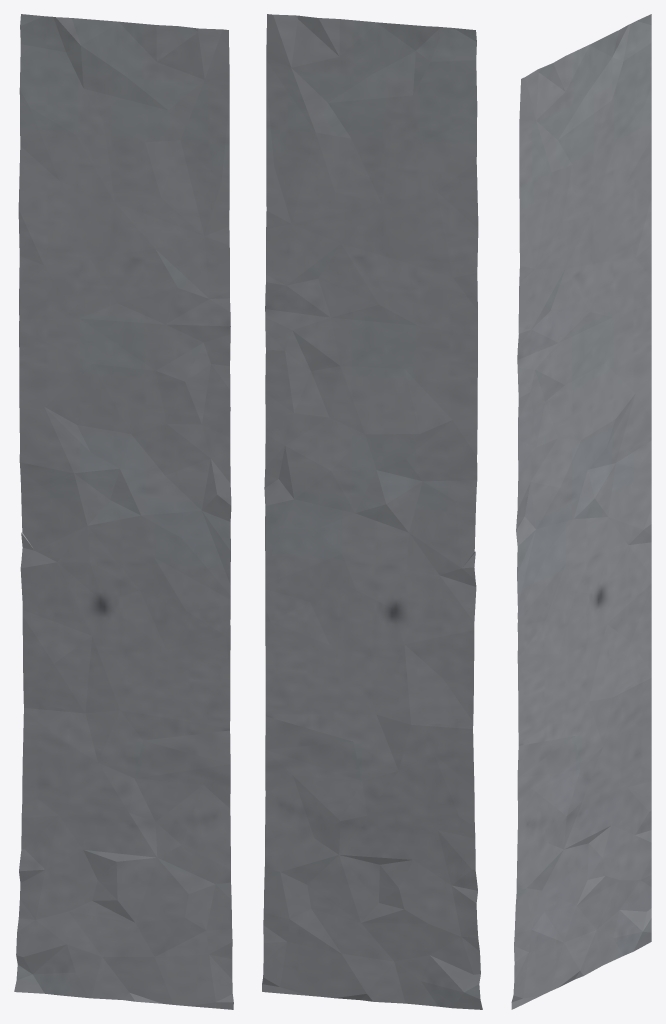
3 views of the same model, side by side, from view 1: azimuth 30°, elevation 25°; view 2: azimuth 210°, elevation 25°; view 3: azimuth 270°, elevation 25° (orthographic). The views are drawn at different scales.
Bounding box in the file's own units: 0.1313 × 0.8374 × 0.1141.
Materials: 1 (1 with a texture image).
